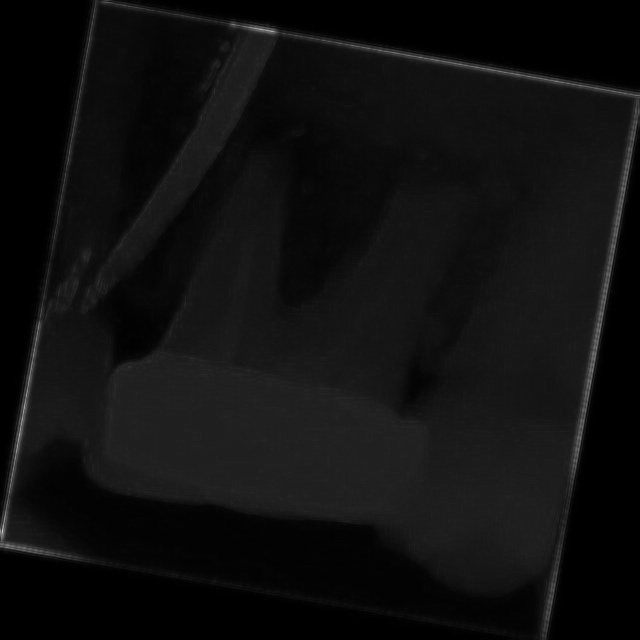Class 2- incomplete endodontic treatment: (64, 86, 503, 584)
